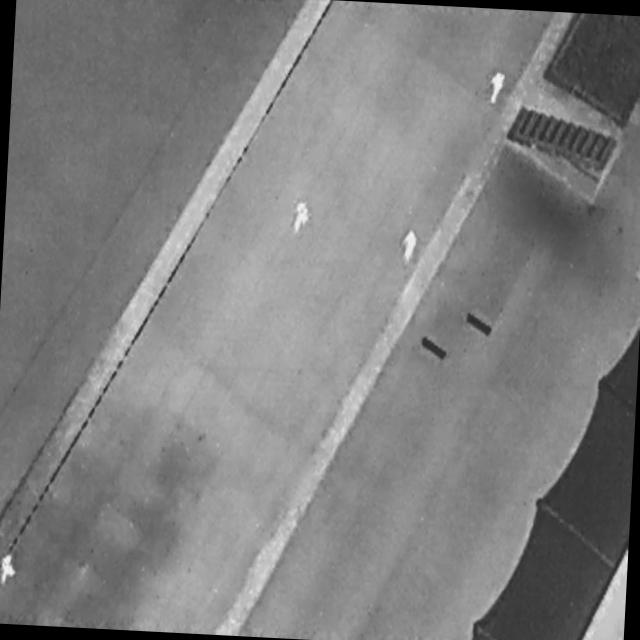person: (486, 66, 509, 107), (399, 226, 419, 264), (294, 197, 312, 235), (1, 553, 16, 588)
